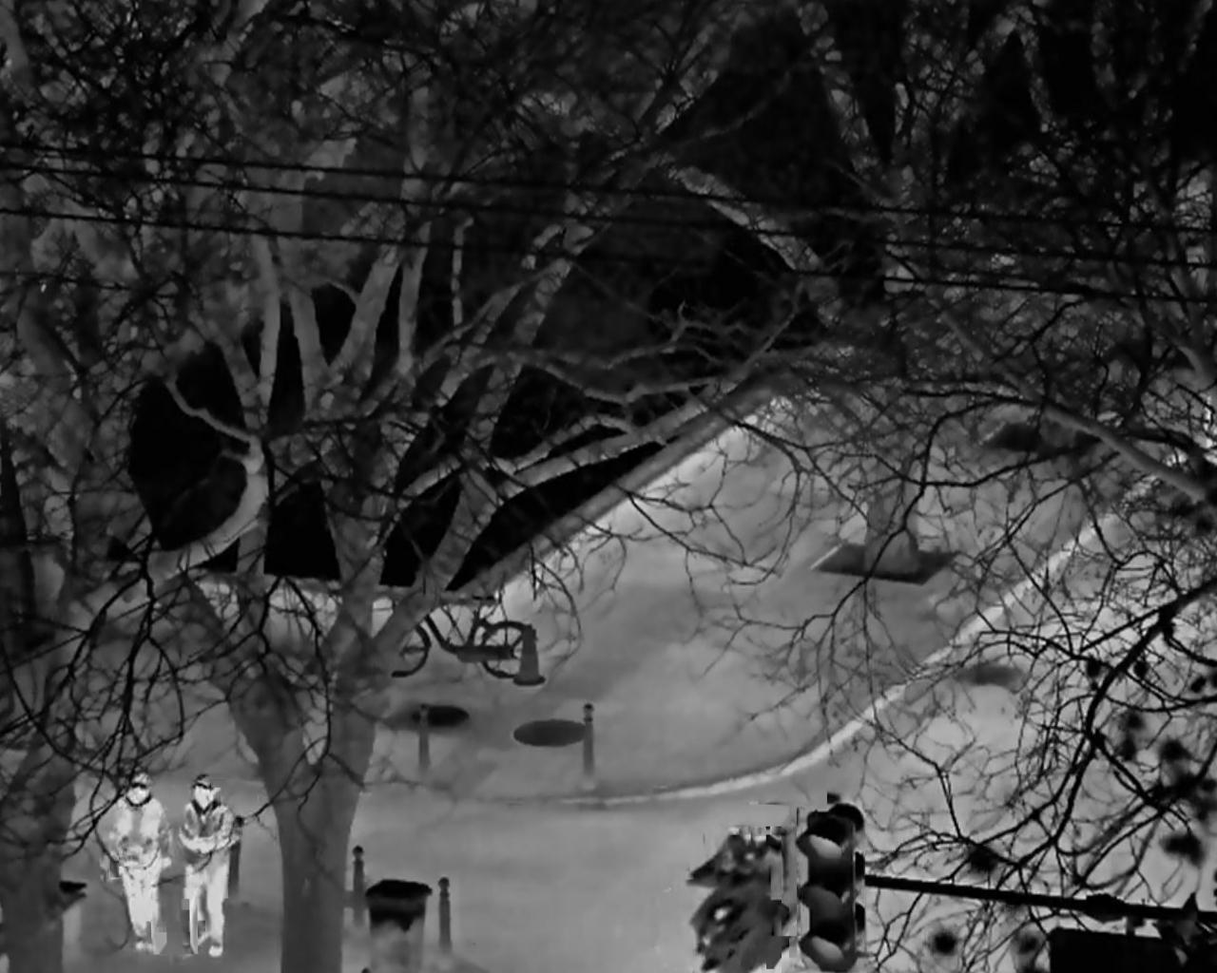person: (105, 773, 170, 956), (177, 775, 240, 959)
